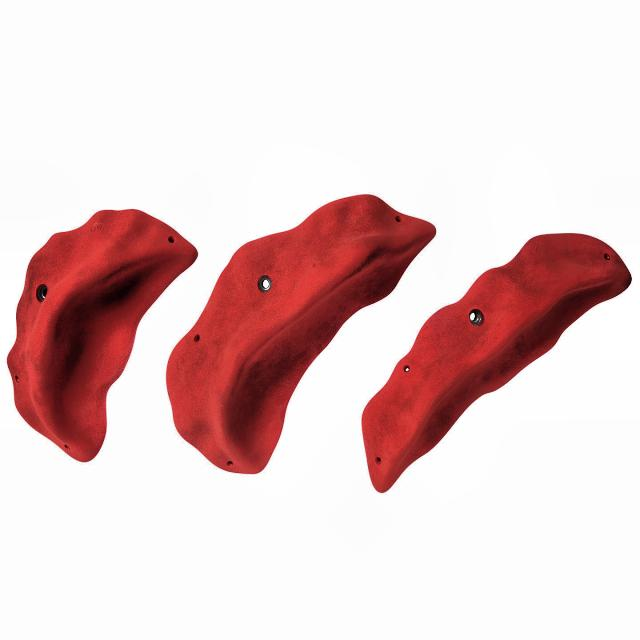Hold: (168, 190, 439, 472), (362, 229, 628, 491), (2, 193, 198, 467)
